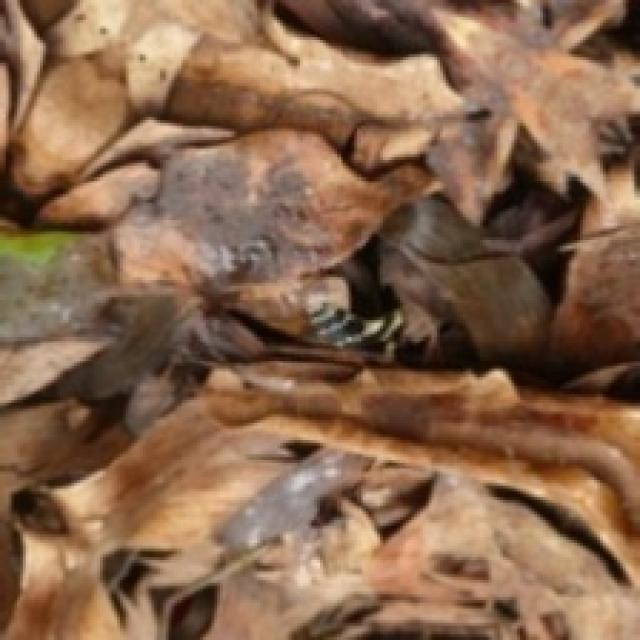king cobra: (3, 360, 637, 637)
